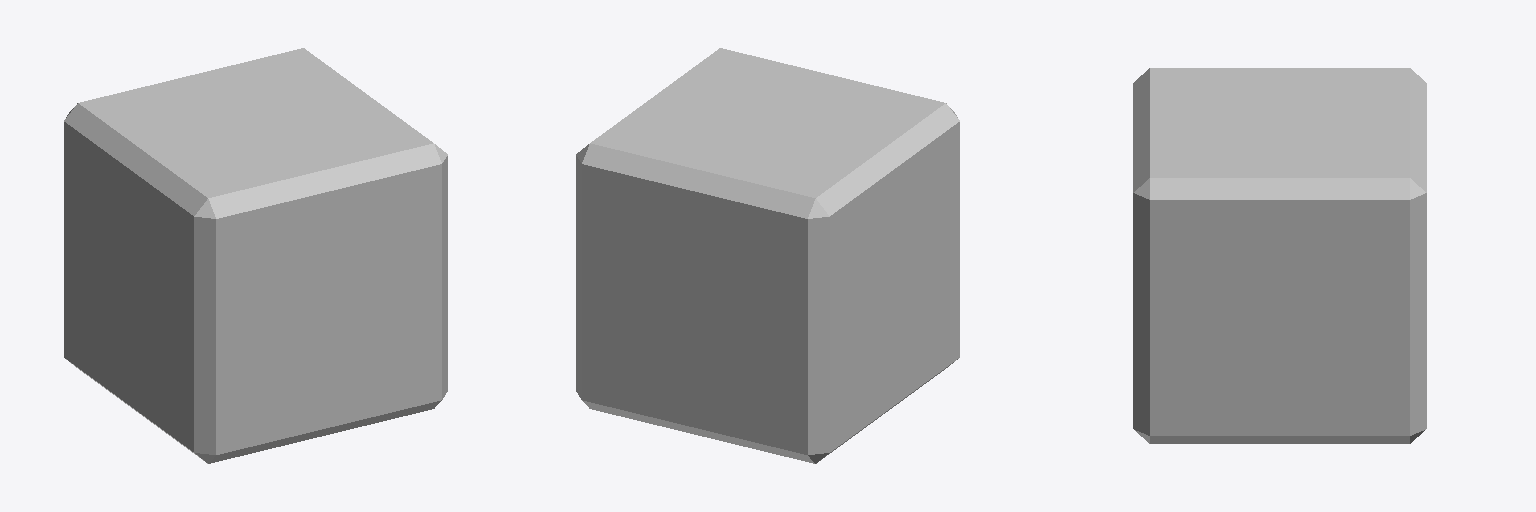
File: block3.obj
The picture shows the model from 3 angles: view 1: azimuth 30°, elevation 25°; view 2: azimuth 150°, elevation 25°; view 3: azimuth 270°, elevation 25°; orthographic projection.
Visible parts, largest first — view 1: Cube; view 2: Cube; view 3: Cube.
Part boxes in pixels (bbox=[...]): Cube: bbox=[64, 48, 447, 463]; Cube: bbox=[576, 48, 959, 463]; Cube: bbox=[1133, 68, 1426, 443].
Size of the model in its own units: 1 by 1 by 1.